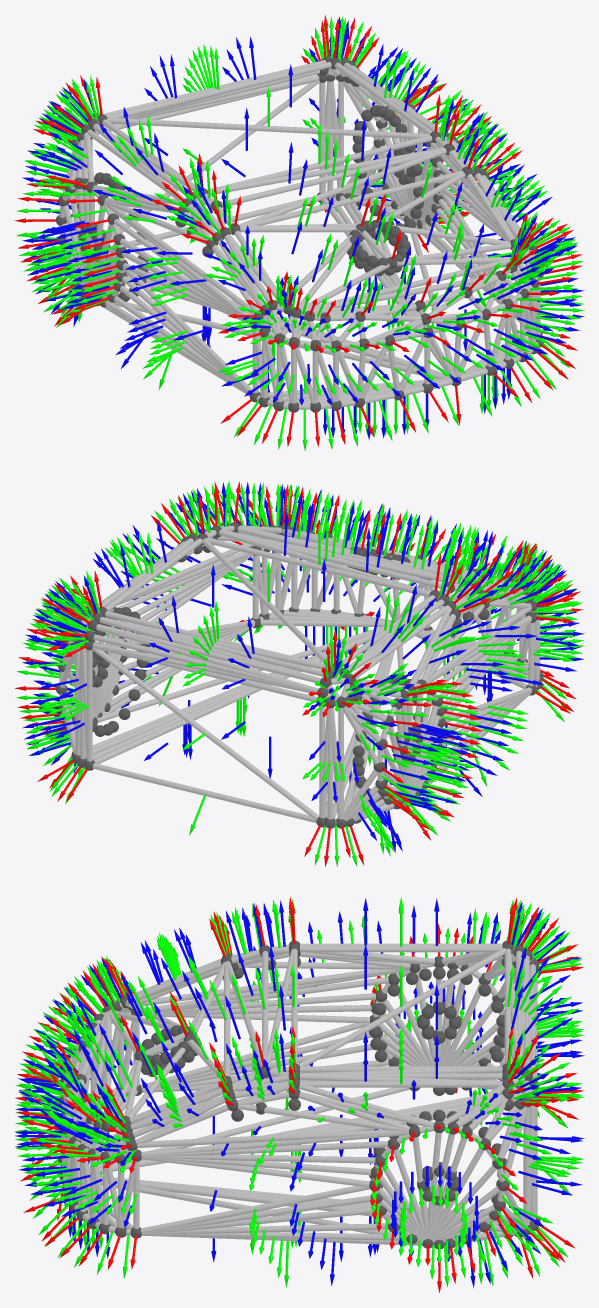
The model's file is onshape_vacuum.gltf.
3 renders of one model, top to bottom at view 1: azimuth 30°, elevation 25°; view 2: azimuth 150°, elevation 25°; view 3: azimuth 270°, elevation 25°, orthographic. The views are drawn at different scales.
Size of the model in its own units: 0.7755 by 0.4246 by 0.9024.
